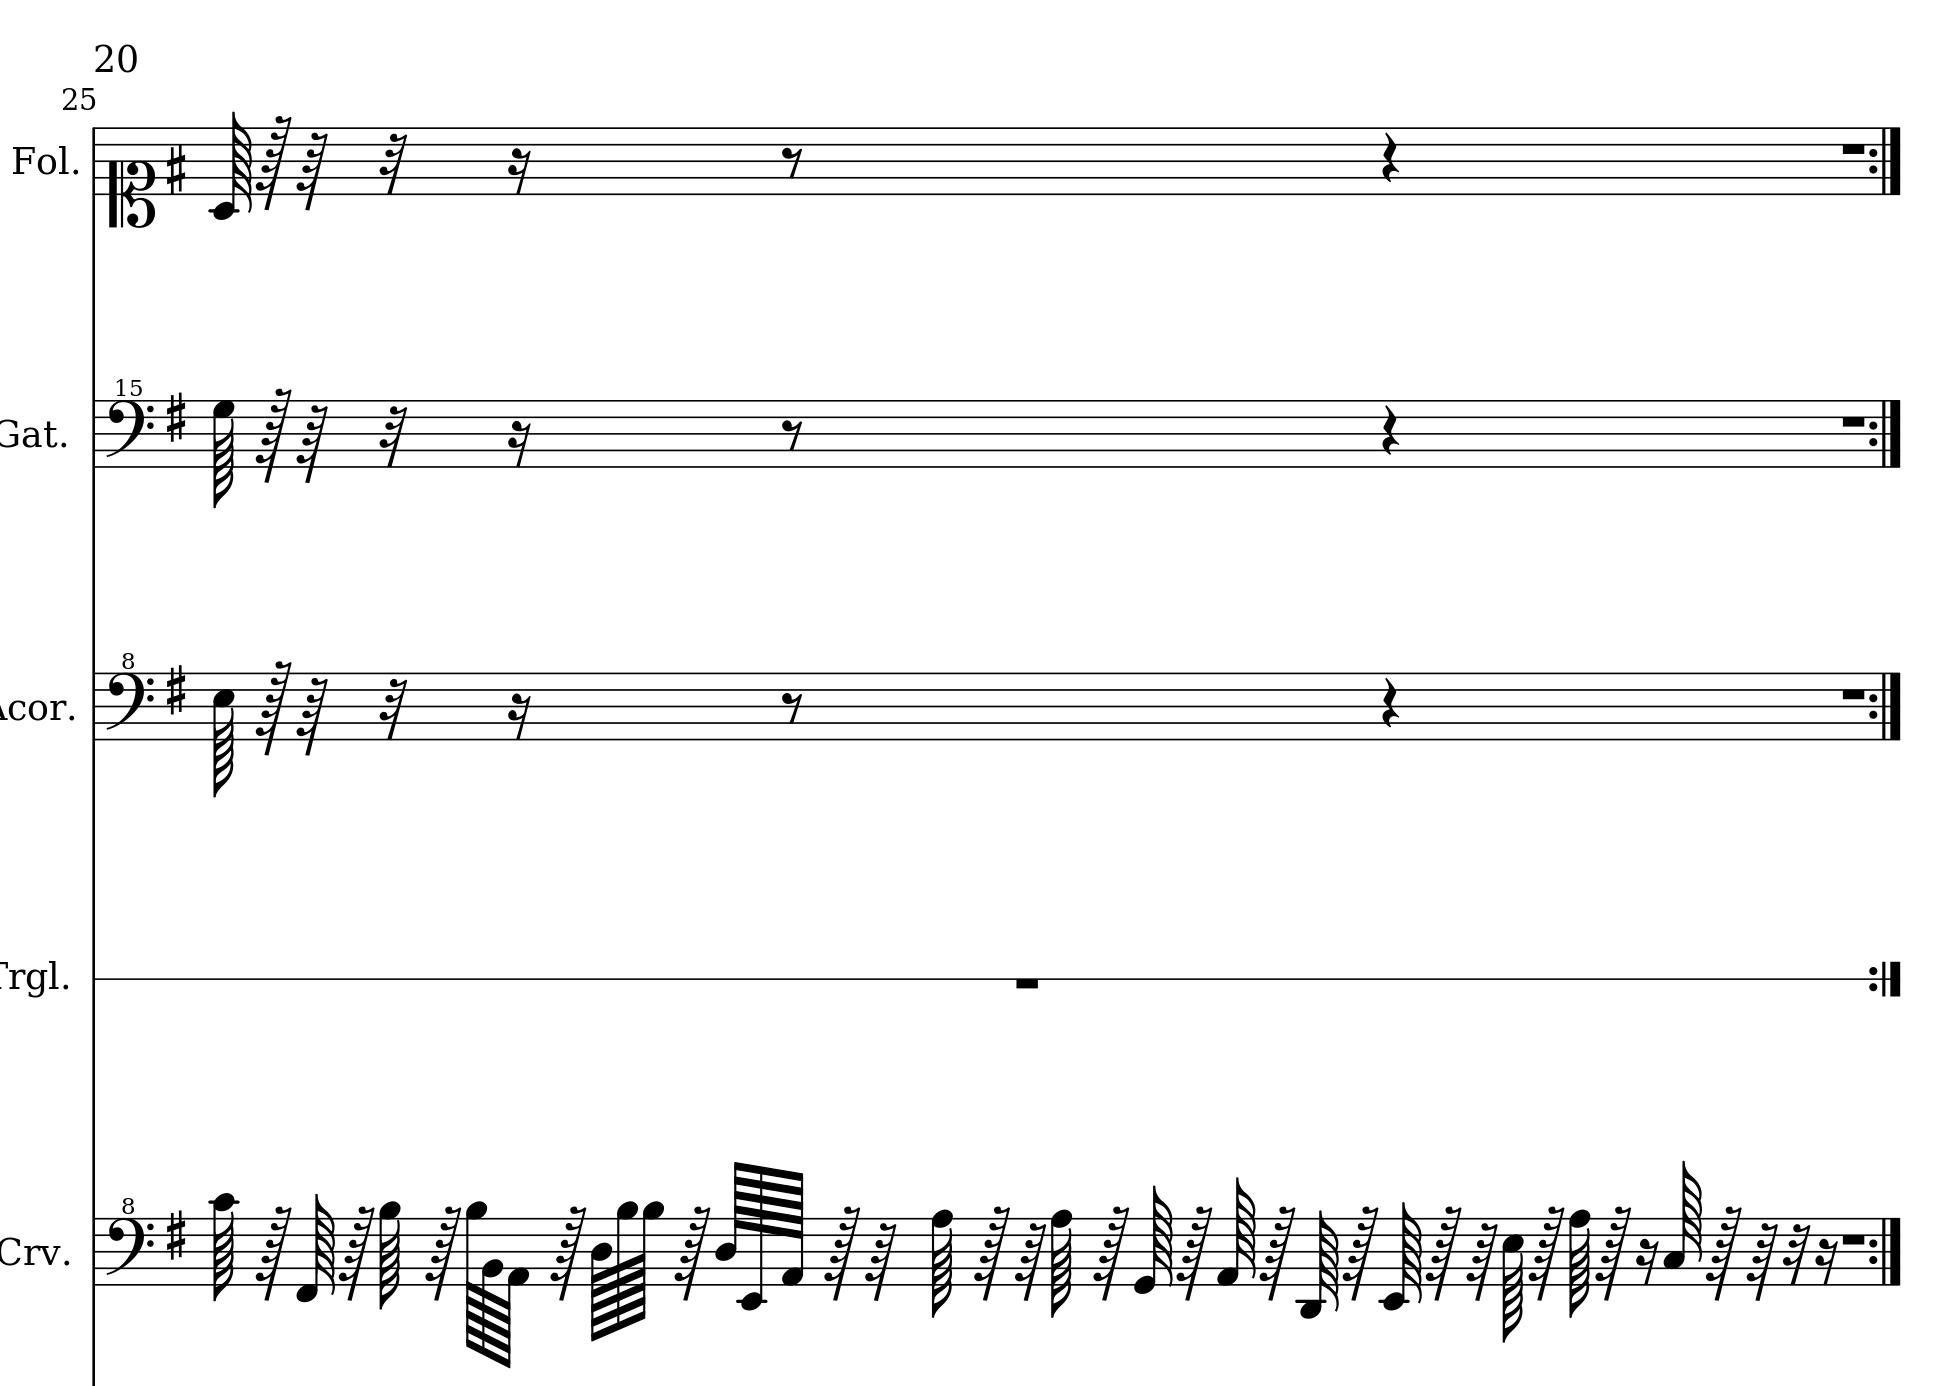0: (115, 40, 136, 73)
128_-1: (295, 1191, 336, 1302)
128_-2: (1380, 1201, 1425, 1311), (210, 109, 253, 220), (739, 1162, 766, 1311)
128_-3: (1296, 1210, 1341, 1318)
128_0: (1134, 1183, 1176, 1294)
128_1: (1216, 1176, 1258, 1285), (502, 1218, 529, 1369), (781, 1170, 805, 1288)
128_10: (207, 1192, 240, 1300)
128_2: (481, 1216, 504, 1362)
128_4: (714, 1159, 744, 1287), (591, 1216, 613, 1342)
128_5: (211, 672, 234, 799)
128_8: (930, 1209, 955, 1318), (1050, 1207, 1074, 1318)
128_9: (639, 1201, 666, 1321), (463, 1201, 484, 1354), (616, 1200, 639, 1330), (378, 1200, 403, 1309), (211, 399, 235, 508)
2: (91, 40, 115, 73), (60, 85, 79, 112)
5: (79, 85, 96, 112)
DLower_Fclef: (99, 372, 154, 469)
High_Fclef: (103, 651, 156, 742), (103, 1195, 154, 1288)
Rests1: (1011, 973, 1044, 994), (1837, 138, 1869, 159), (1836, 682, 1867, 703), (1837, 411, 1869, 430), (1840, 1230, 1867, 1248)
Rests128: (823, 1201, 862, 1302), (1594, 1201, 1633, 1302), (253, 112, 292, 211), (973, 1201, 1012, 1300), (1092, 1201, 1131, 1300), (1176, 1203, 1215, 1302), (1528, 1203, 1566, 1303), (255, 658, 292, 757), (1258, 1204, 1296, 1303), (1705, 1203, 1743, 1302), (675, 1201, 711, 1303), (255, 385, 292, 483), (1426, 1203, 1464, 1300), (550, 1201, 586, 1302), (1342, 1204, 1380, 1300), (424, 1204, 460, 1302), (255, 1204, 291, 1300), (339, 1203, 373, 1302), (1566, 1209, 1593, 1318), (1503, 1219, 1527, 1336)
Rests16: (505, 418, 532, 468), (505, 145, 531, 196), (505, 691, 531, 741), (1635, 1236, 1659, 1287), (1815, 1236, 1839, 1287)
Rests32: (378, 402, 408, 469), (378, 675, 408, 742), (378, 130, 408, 196), (1782, 1219, 1810, 1287)
Rests4: (1380, 130, 1401, 184), (1380, 403, 1401, 457), (1380, 676, 1401, 730)
Rests64: (1014, 1219, 1050, 1303), (864, 1221, 898, 1303), (1746, 1219, 1779, 1303), (295, 402, 328, 484), (295, 675, 328, 757), (1467, 1219, 1500, 1302), (295, 130, 328, 211)
Rests8: (780, 415, 804, 451), (780, 144, 804, 178), (780, 688, 804, 723)
RightRepeatSign: (1867, 124, 1905, 195), (1867, 399, 1905, 468), (1867, 670, 1905, 739), (1869, 1216, 1905, 1285), (1869, 960, 1902, 997)
Sharp: (162, 1209, 189, 1264), (162, 661, 187, 718), (162, 390, 187, 445), (163, 142, 187, 196)
Single_barline: (85, 127, 102, 195), (87, 1218, 100, 1285), (87, 400, 100, 466), (87, 673, 100, 739)
Soprano_Cclef: (105, 124, 157, 228)
